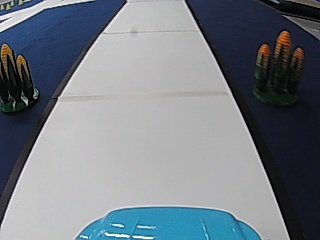corn: (252, 29, 305, 106), (0, 40, 39, 114)
